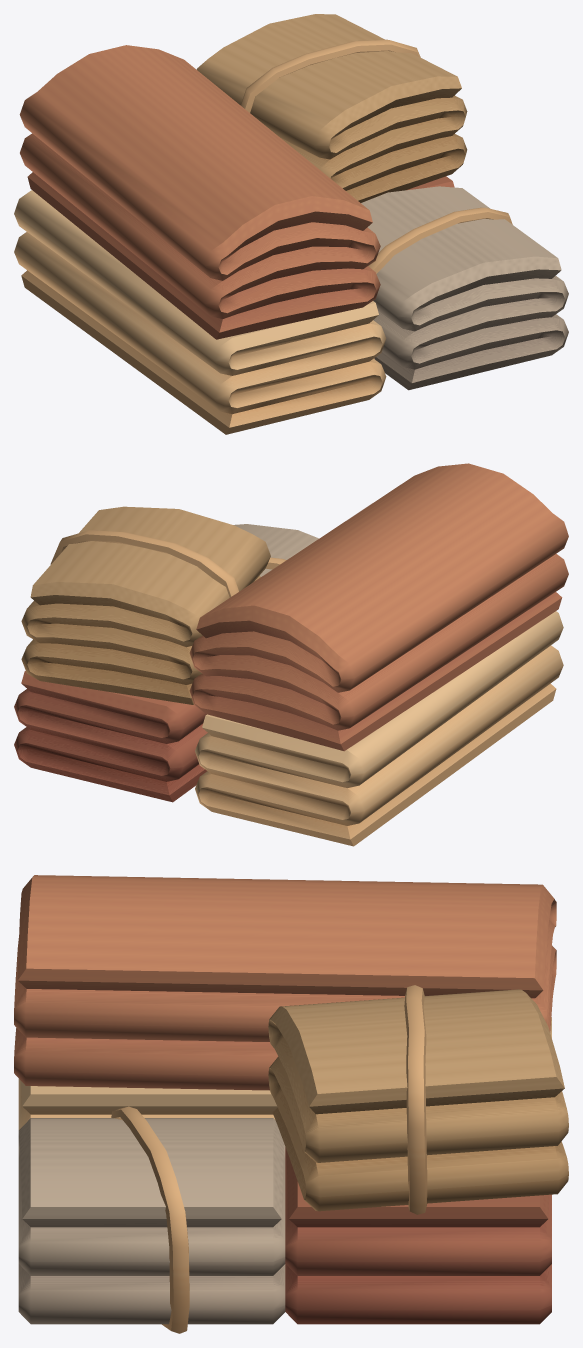
Rendered from Textiles_Stack_Large.gltf.
3 views of the same model, one above another, from view 1: azimuth 30°, elevation 25°; view 2: azimuth 150°, elevation 25°; view 3: azimuth 270°, elevation 25° (orthographic). The views are drawn at different scales.
Visible parts, largest first — view 1: Textiles_Stack_Large; view 2: Textiles_Stack_Large; view 3: Textiles_Stack_Large.
Part boxes in pixels (left/top/right/bottom): Textiles_Stack_Large: left=14, top=14, right=568, bottom=434; Textiles_Stack_Large: left=14, top=463, right=568, bottom=846; Textiles_Stack_Large: left=14, top=875, right=568, bottom=1333.
Size of the model in its own units: 1.64 by 0.9556 by 1.66.
Materials: 1 (1 with a texture image).
